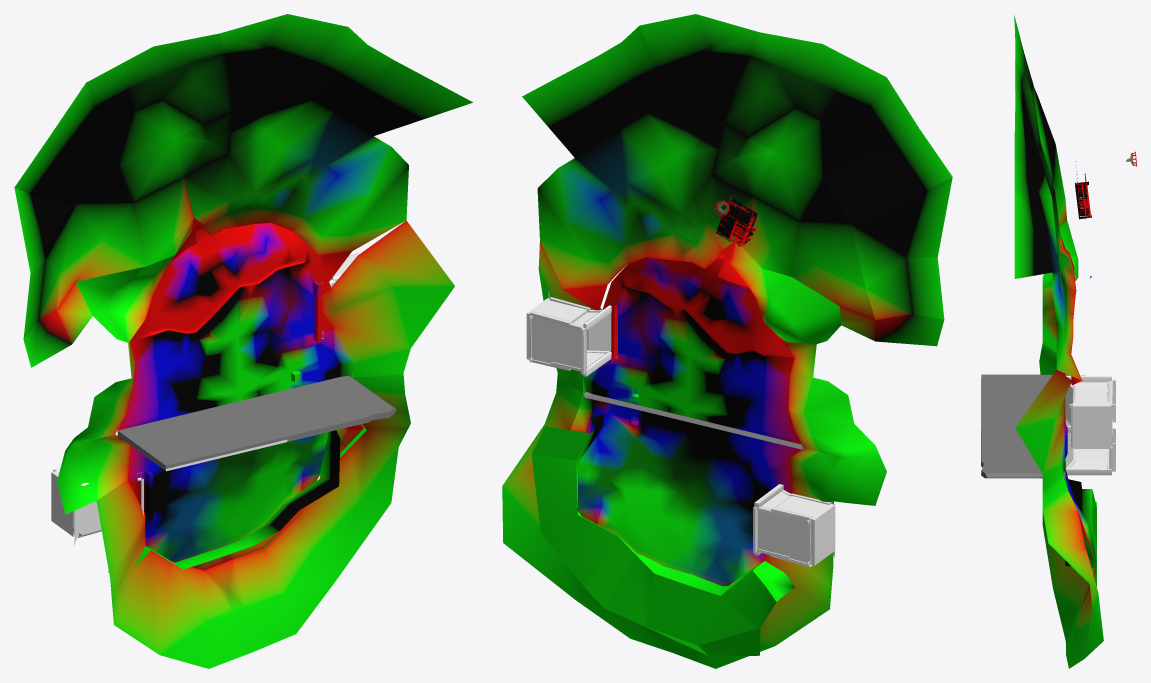
3 renders of one model, left to right at view 1: azimuth 30°, elevation 25°; view 2: azimuth 150°, elevation 25°; view 3: azimuth 270°, elevation 25°, orthographic. The views are drawn at different scales.
Parts seen in each view (by area): view 1: st202_A 011 LOD 1, st202_A 012 LOD 1, st202_A 001 LOD 1, st202_A 000 LOD 1, st202_A 006 LOD 1, st202_A 007 LOD 1, st202_A 003 LOD 1, st202_A 002 LOD 1, st202_A 008 LOD 1; view 2: st202_A 011 LOD 1, st202_A 012 LOD 1, st202_A 001 LOD 1, st202_A 000 LOD 1, st202_A 006 LOD 1, st202_A 007 LOD 1, st202_A 002 LOD 1, st202_A 010 LOD 1, st202_A 008 LOD 1, st202_A 009 LOD 1, st202_A 003 LOD 1; view 3: st202_A 012 LOD 1, st202_A 001 LOD 1, st202_A 003 LOD 1, st202_A 011 LOD 1, st202_A 010 LOD 1, st202_A 006 LOD 1, st202_A 007 LOD 1, st202_A 000 LOD 1, st202_A 002 LOD 1, st202_A 008 LOD 1, st202_A 009 LOD 1.
Part boxes in pixels (box(x1,y1,x2,y2)): st202_A 011 LOD 1: box(14, 20, 267, 367); st202_A 012 LOD 1: box(233, 14, 472, 281); st202_A 001 LOD 1: box(222, 376, 410, 657); st202_A 000 LOD 1: box(57, 434, 238, 668); st202_A 006 LOD 1: box(117, 227, 286, 468); st202_A 007 LOD 1: box(233, 223, 395, 439); st202_A 003 LOD 1: box(331, 220, 454, 408); st202_A 002 LOD 1: box(63, 217, 203, 468); st202_A 008 LOD 1: box(51, 468, 143, 545); st202_A 011 LOD 1: box(683, 19, 952, 346); st202_A 012 LOD 1: box(522, 14, 714, 310); st202_A 001 LOD 1: box(502, 376, 692, 658); st202_A 000 LOD 1: box(671, 418, 886, 668); st202_A 006 LOD 1: box(683, 257, 801, 444); st202_A 007 LOD 1: box(583, 257, 687, 416); st202_A 002 LOD 1: box(717, 240, 878, 457); st202_A 010 LOD 1: box(526, 290, 611, 376); st202_A 008 LOD 1: box(753, 484, 835, 567); st202_A 009 LOD 1: box(698, 175, 770, 285); st202_A 003 LOD 1: box(538, 241, 601, 392); st202_A 012 LOD 1: box(1014, 77, 1081, 385); st202_A 001 LOD 1: box(986, 470, 1103, 668); st202_A 003 LOD 1: box(1015, 369, 1071, 493); st202_A 011 LOD 1: box(1014, 14, 1074, 278); st202_A 010 LOD 1: box(1065, 375, 1115, 448); st202_A 006 LOD 1: box(981, 255, 1074, 426); st202_A 007 LOD 1: box(981, 370, 1067, 477); st202_A 000 LOD 1: box(1039, 349, 1096, 649); st202_A 002 LOD 1: box(981, 220, 1078, 374); st202_A 008 LOD 1: box(1065, 426, 1115, 475); st202_A 009 LOD 1: box(1075, 151, 1136, 278).
Bounding box in the file's own units: 1715307 × 2373838 × 579273.
